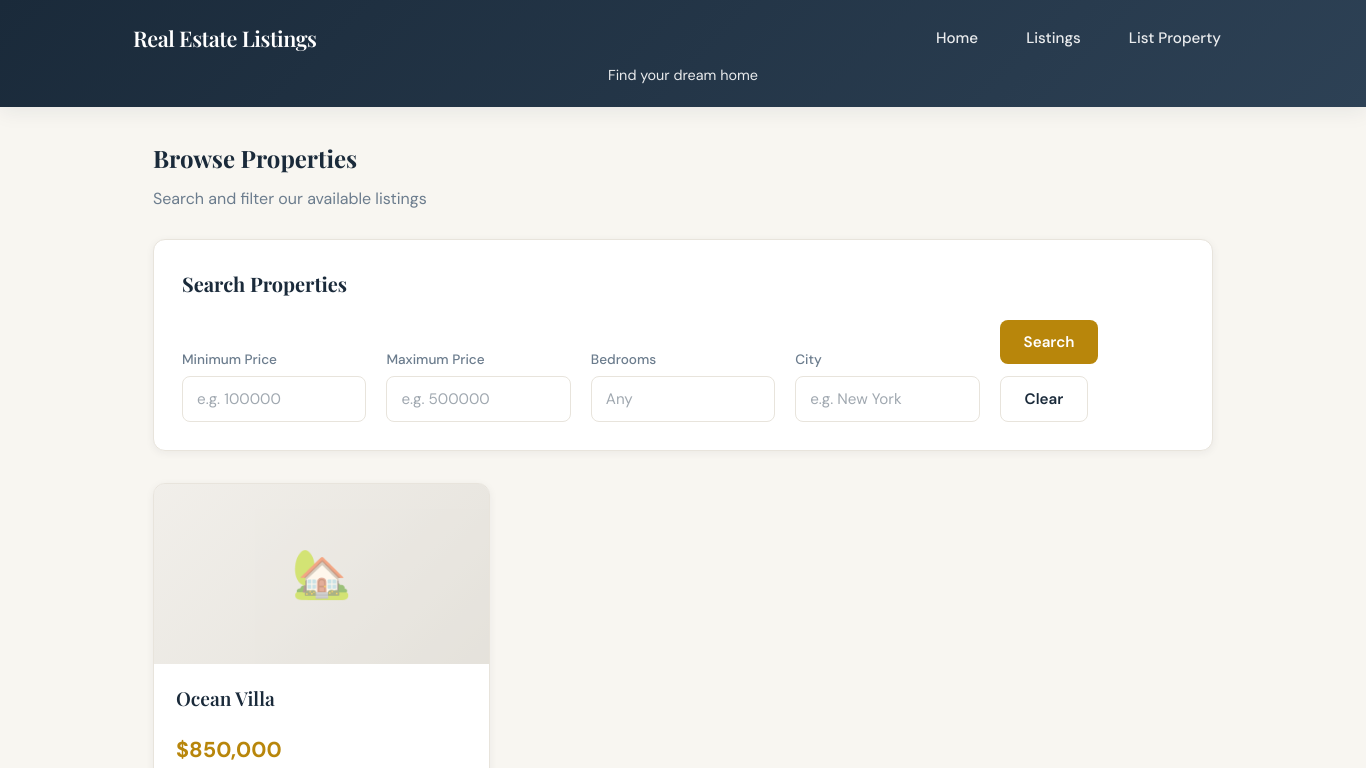
Scenario: App integration tests › shows empty state if filter returns no results
Check: the heading "Ocean Villa" is shown, box left=176, top=685, right=275, bottom=711
Filter to a result that returns nothing
Type "Nowhere" into the field labelled "City" at (887, 399), box left=795, top=376, right=980, bottom=422
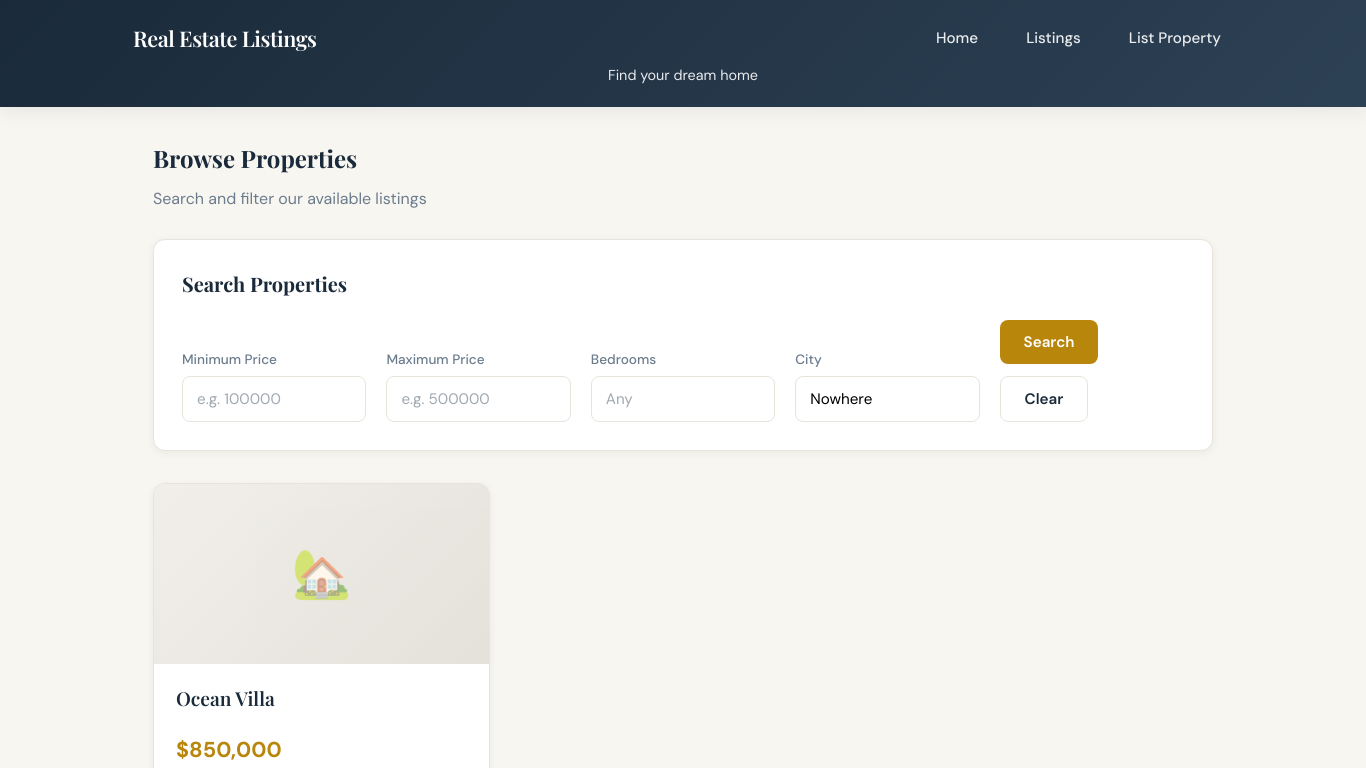
Click the button with test id "filter-button" at (1049, 342), box left=1000, top=320, right=1098, bottom=364
(page scrolled)
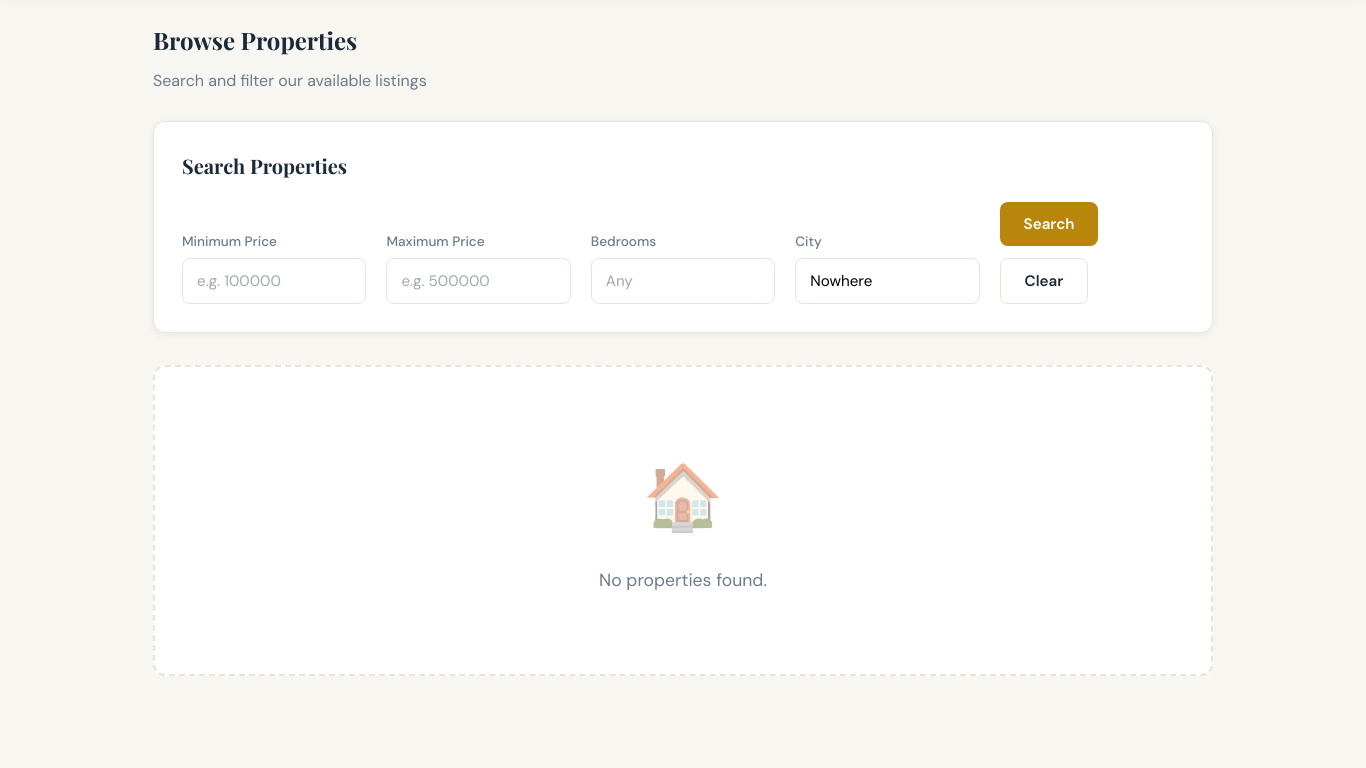
Check: the element with test id "empty-list" shows "No properties found.", box left=599, top=569, right=767, bottom=591
